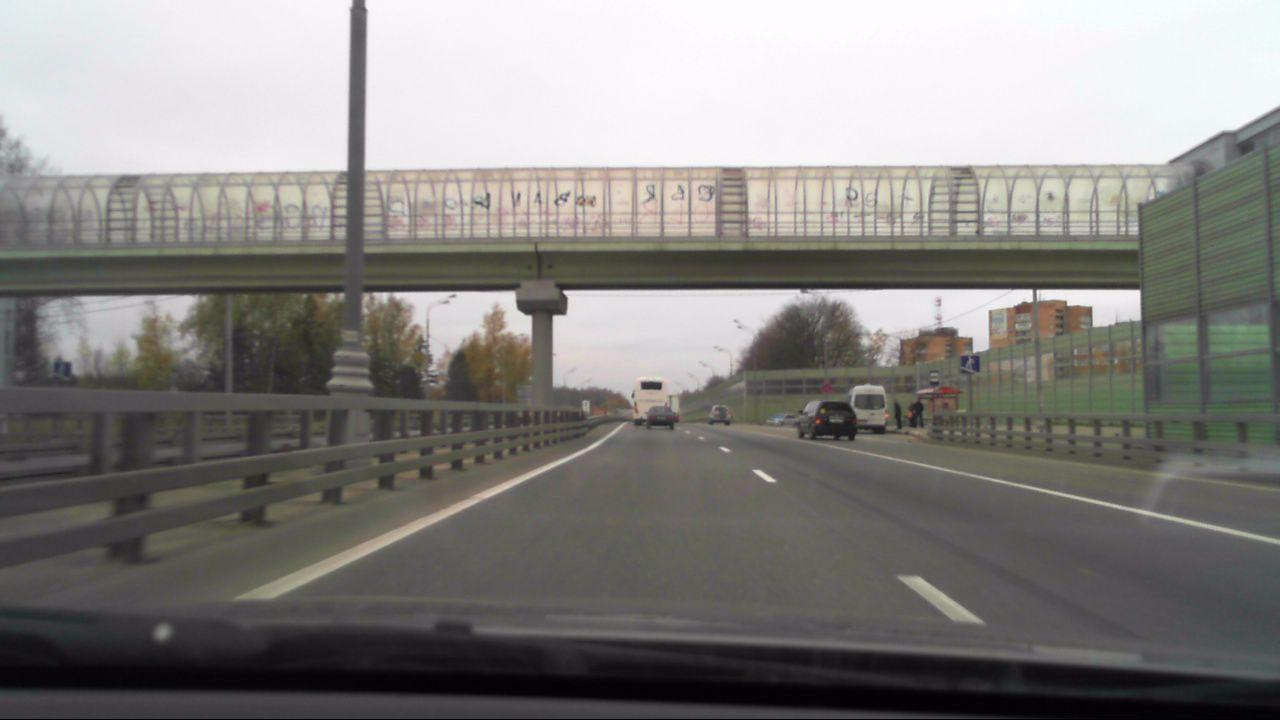6_7: (960, 355, 980, 375)
